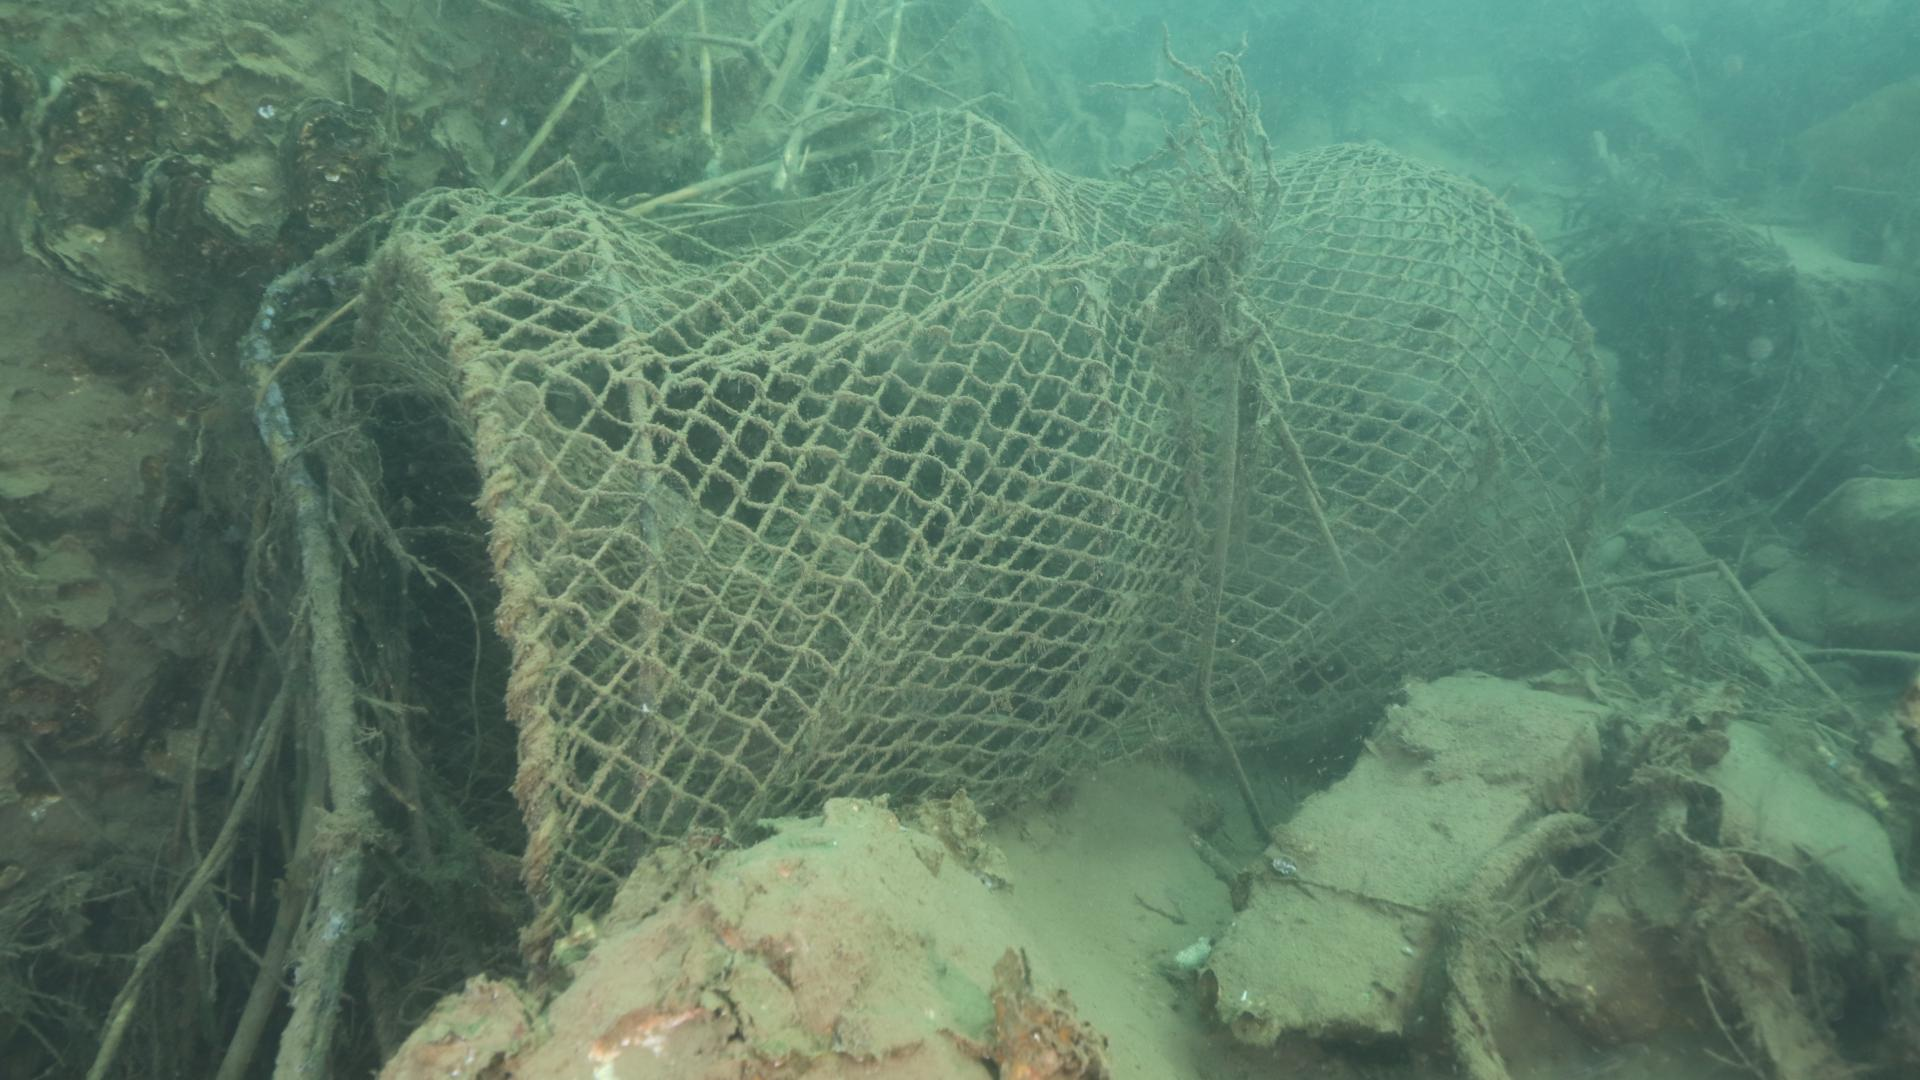spring fish trap: (355, 105, 1605, 986)
